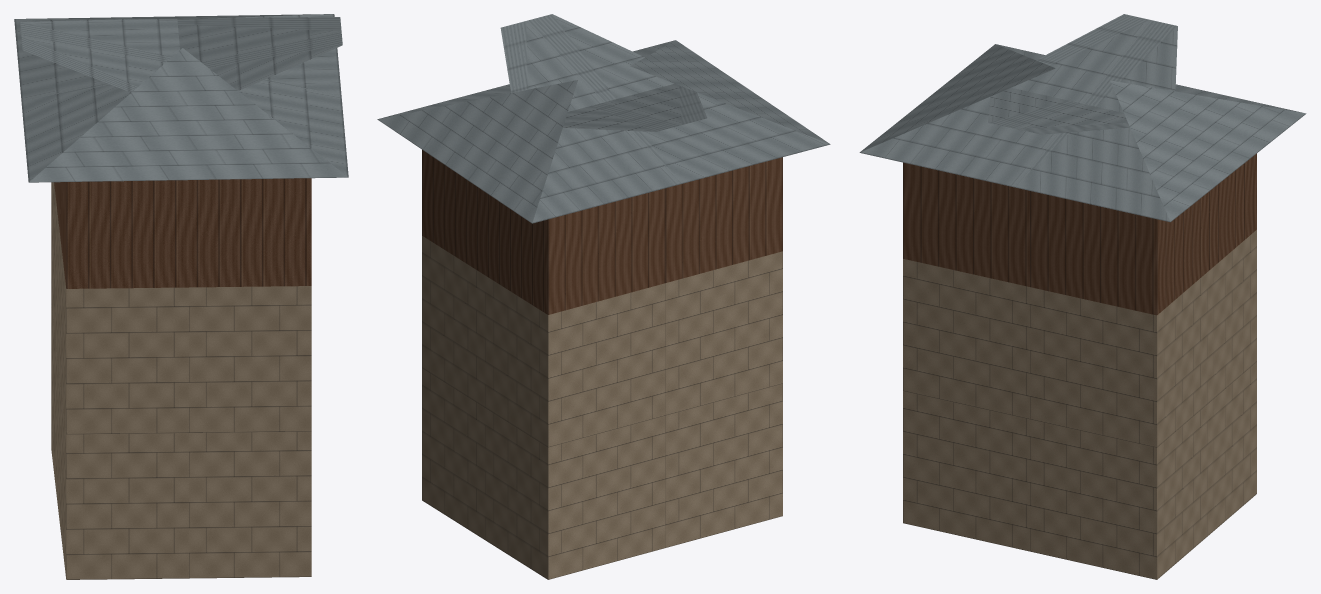
The model's file is bld_c1_21_498.gltf.
3 views of the same model, side by side, from view 1: azimuth 30°, elevation 25°; view 2: azimuth 150°, elevation 25°; view 3: azimuth 270°, elevation 25° (orthographic). The views are drawn at different scales.
Visible parts, largest first — view 1: bld_c1_21_498; view 2: bld_c1_21_498; view 3: bld_c1_21_498.
Boxes of the visible parts, box(x1,y1,x2,y2) form: bld_c1_21_498: box(14, 14, 348, 579); bld_c1_21_498: box(377, 14, 830, 579); bld_c1_21_498: box(859, 14, 1306, 579).
Bounding box in the file's own units: 6.51 × 7.4 × 6.9.
3 materials, 3 textured.
